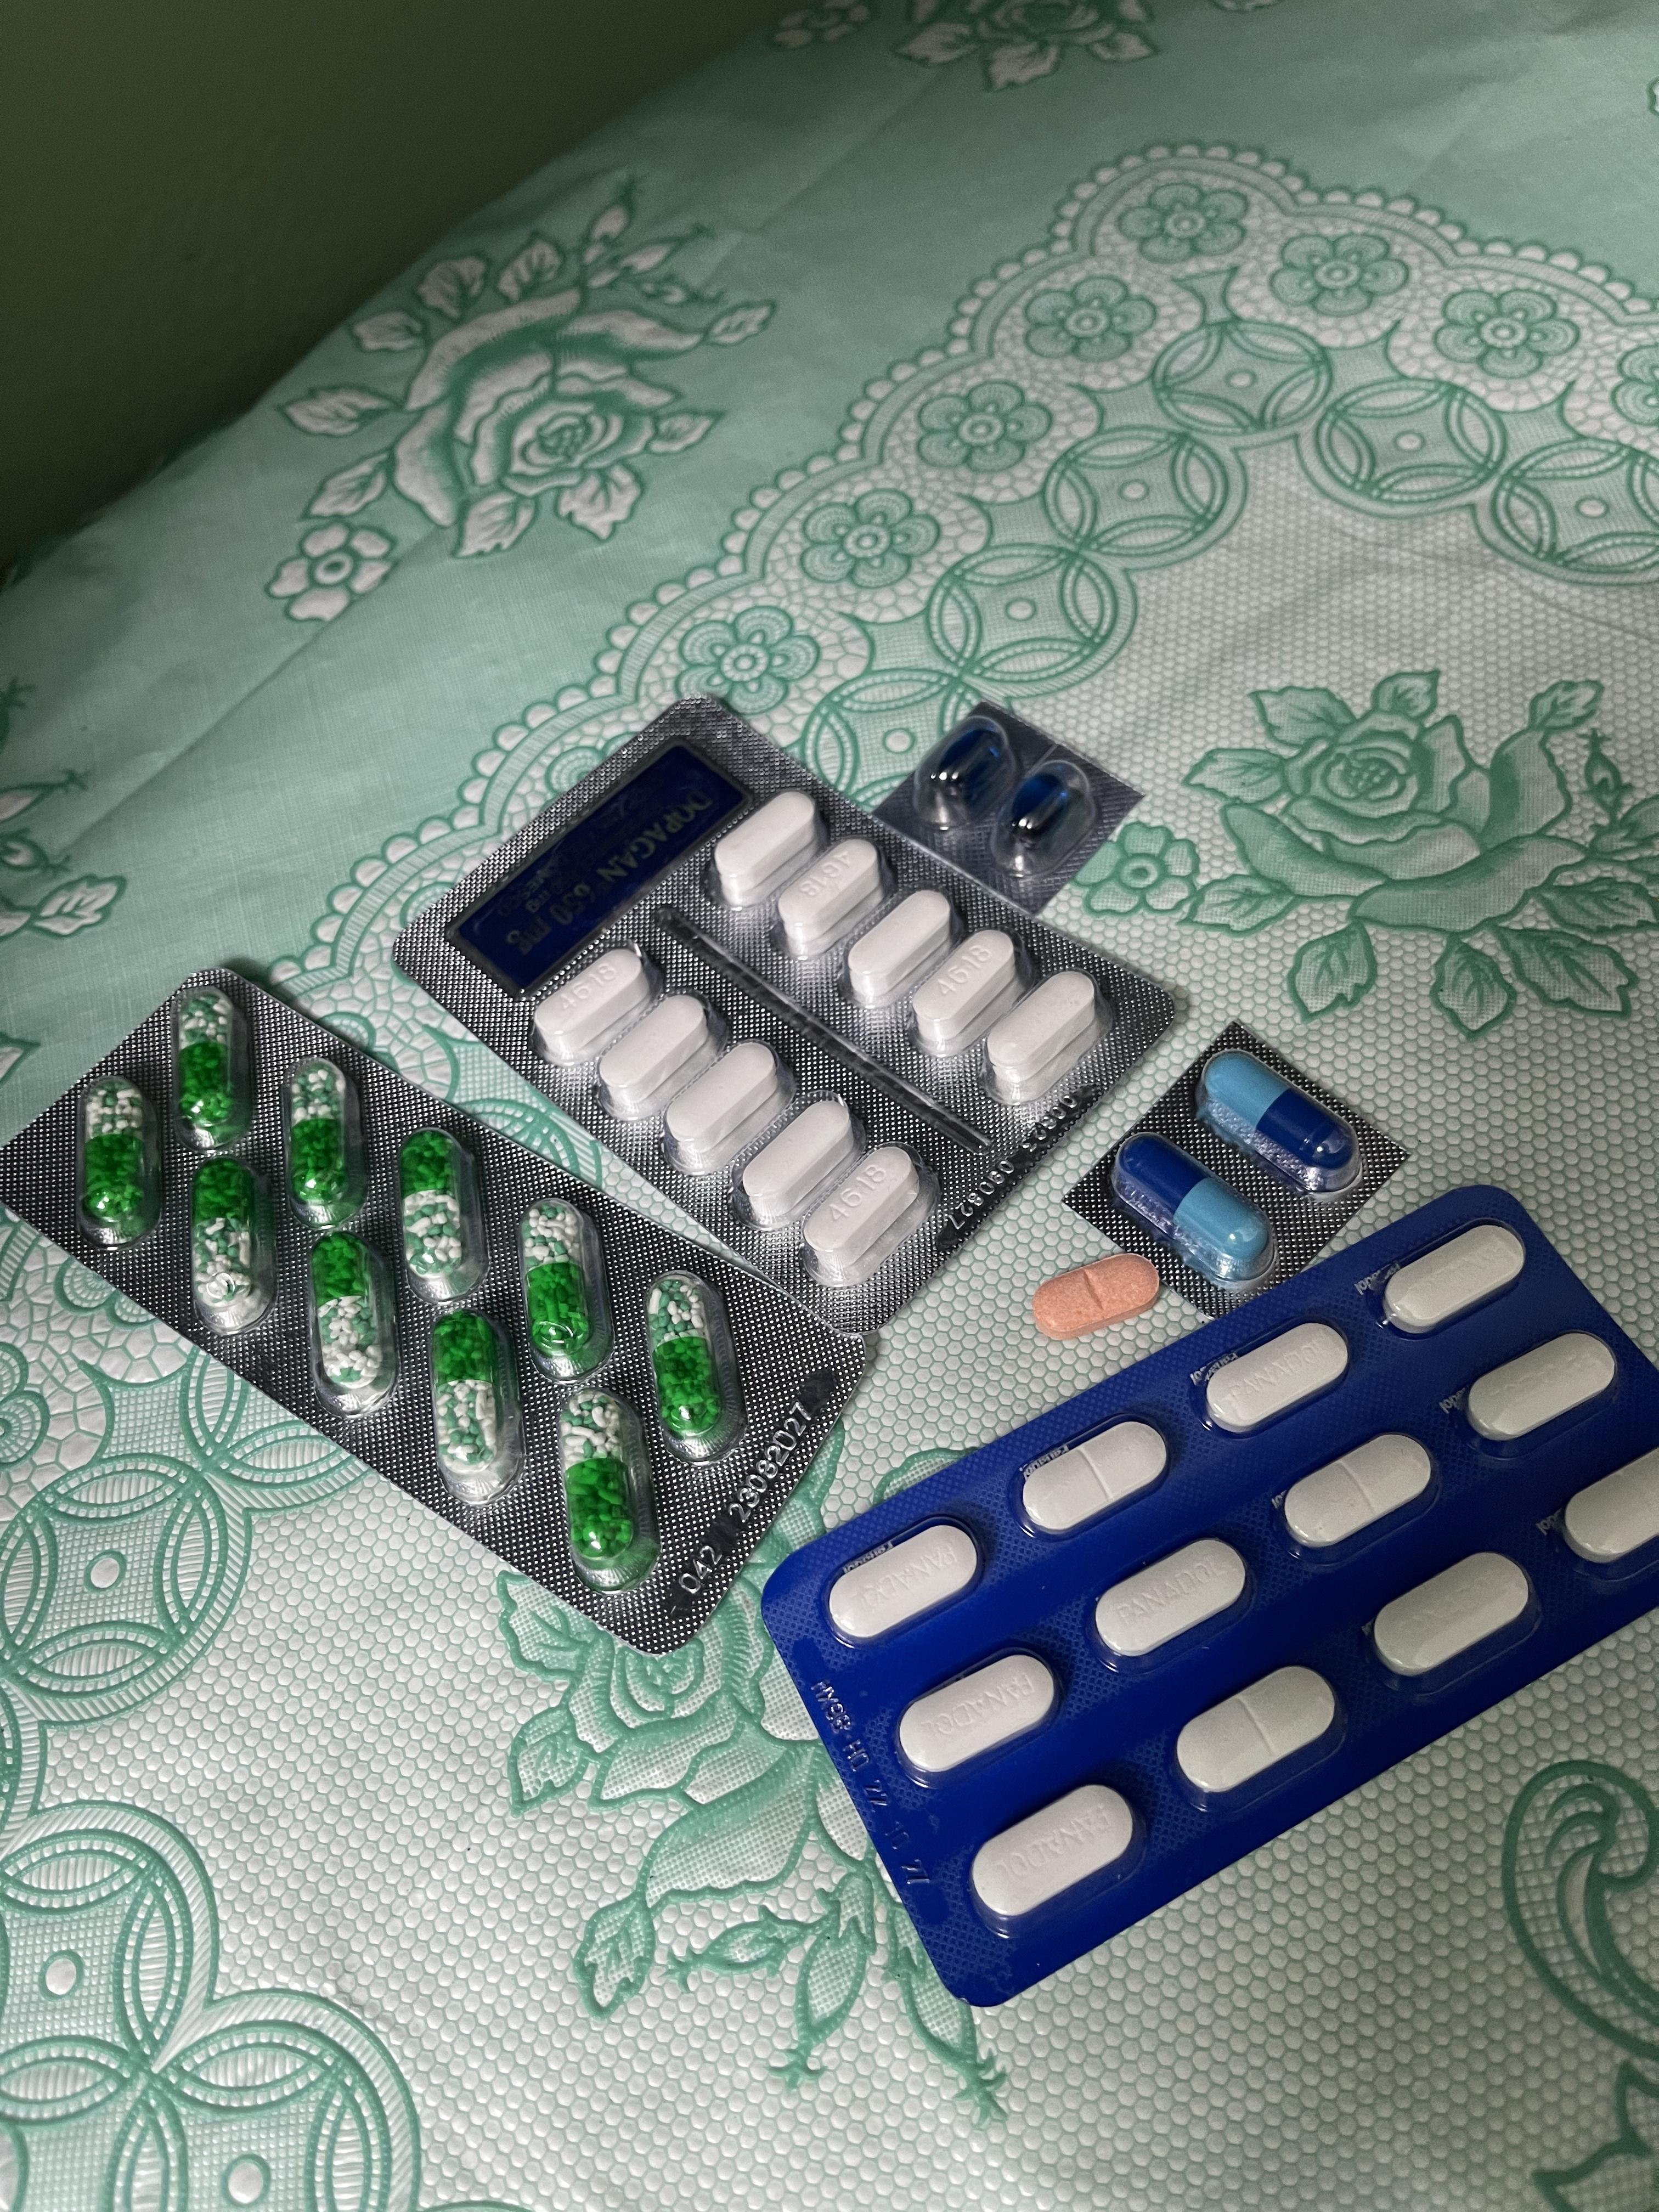Lincomyxin_500mg: (929, 721, 1009, 806), (1002, 770, 1077, 848)
Loratadine_10mg: (1030, 1252, 1159, 1338)
Paracetamol_350mg: (969, 1782, 1136, 1926), (1173, 1663, 1335, 1801), (1368, 1552, 1535, 1683), (897, 1648, 1061, 1780), (1093, 1534, 1251, 1662), (824, 1517, 979, 1646), (1279, 1432, 1436, 1552), (1464, 1331, 1619, 1444), (1019, 1420, 1168, 1538), (1202, 1320, 1349, 1432), (1382, 1223, 1528, 1332), (1558, 1433, 1657, 1562)
Paracetamol_500mg: (803, 1146, 925, 1287), (662, 1038, 786, 1172), (988, 970, 1103, 1109), (598, 993, 720, 1123), (911, 927, 1026, 1061), (744, 1097, 859, 1226), (538, 944, 657, 1064), (847, 888, 958, 1014), (714, 791, 824, 909), (775, 836, 880, 956)
Paracetamol_650mg: (429, 1299, 523, 1498), (558, 1386, 655, 1576), (648, 1271, 741, 1456), (310, 1231, 401, 1416), (521, 1200, 608, 1379), (401, 1127, 490, 1301), (192, 1155, 275, 1336), (282, 1055, 366, 1223), (78, 1078, 160, 1244), (173, 981, 253, 1136)
pill: (1115, 1134, 1277, 1287), (1202, 1050, 1366, 1195)
